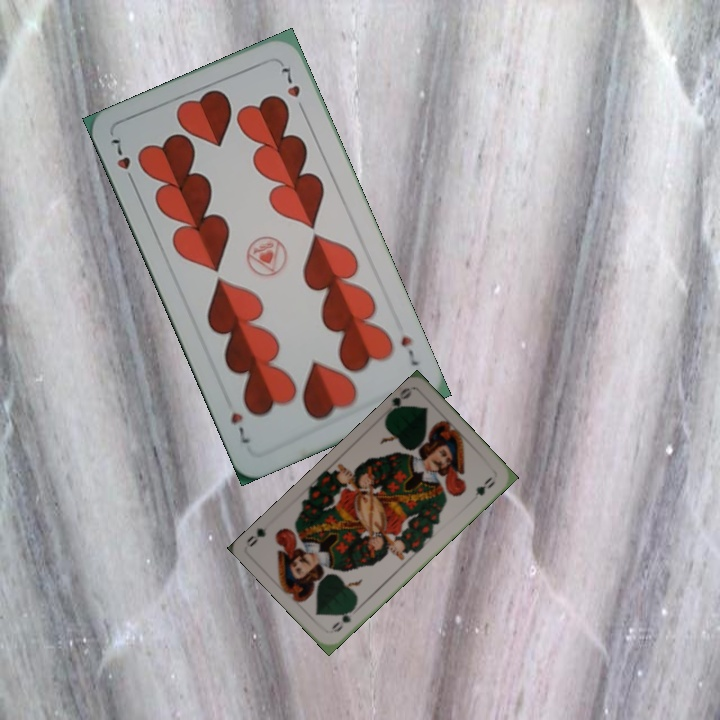GO: (383, 384, 414, 418), (327, 602, 358, 635)
H7: (107, 134, 138, 188), (396, 332, 421, 369)
